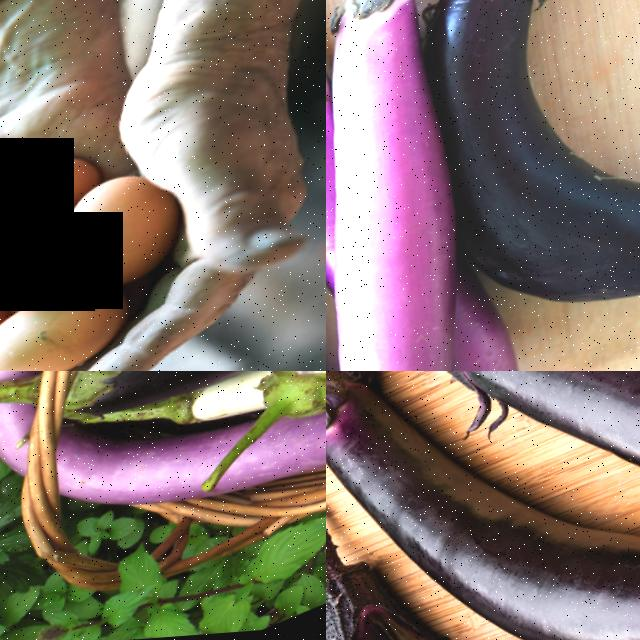egg_: (50, 162, 205, 308), (0, 276, 145, 371), (0, 140, 112, 247), (0, 211, 81, 331)
eggplant: (365, 0, 640, 369), (326, 0, 522, 330), (326, 371, 510, 584), (401, 371, 640, 478), (502, 495, 640, 640), (326, 391, 399, 640), (559, 371, 640, 593), (65, 371, 326, 424)
